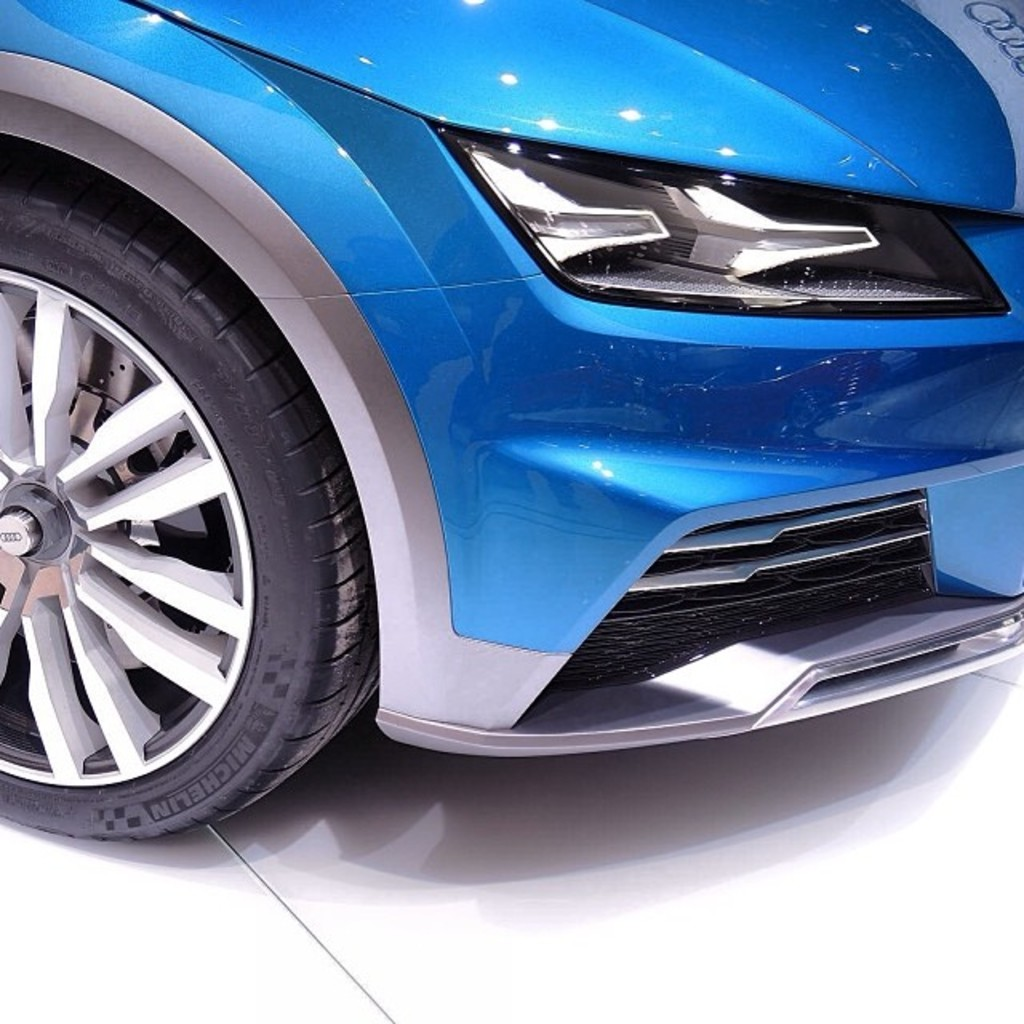Car: (0, 0, 1024, 876)
